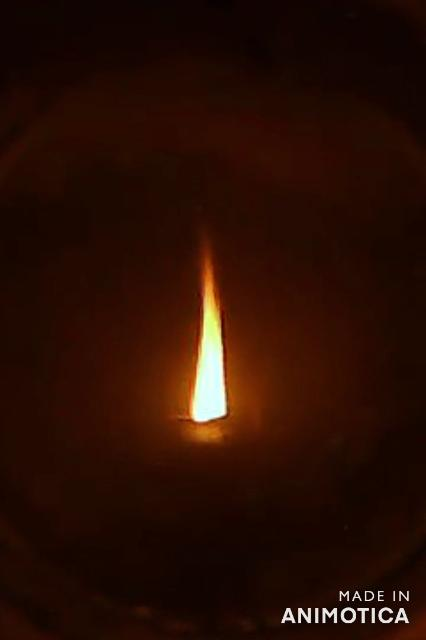burner flame: (188, 228, 232, 426)
